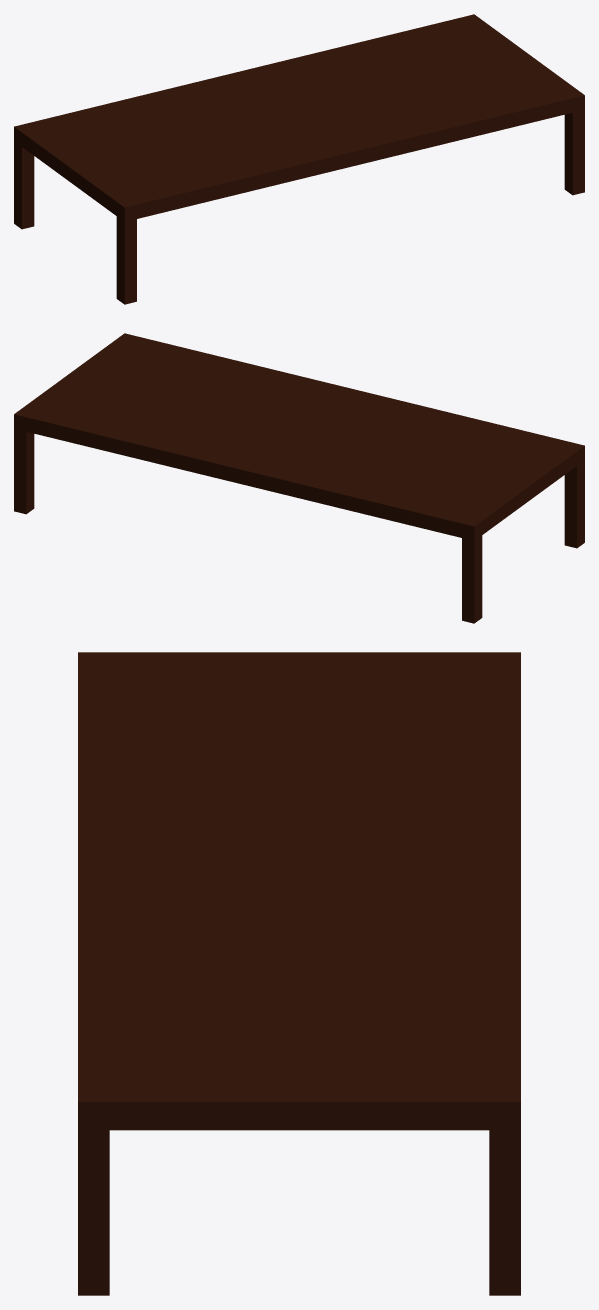
File: medteble_nice_1.FBX
3 views of the same model, one above another, from view 1: azimuth 30°, elevation 25°; view 2: azimuth 150°, elevation 25°; view 3: azimuth 270°, elevation 25° (orthographic). The views are drawn at different scales.
Parts seen in each view (by area): view 1: widetable_nice_02; view 2: widetable_nice_02; view 3: widetable_nice_02.
Boxes of the visible parts, x1=… form: widetable_nice_02: x1=14, y1=14, x2=584, y2=304; widetable_nice_02: x1=14, y1=333, x2=584, y2=623; widetable_nice_02: x1=78, y1=652, x2=520, y2=1295.
Bounding box in the file's own units: 111 × 46.11 × 22.31.
